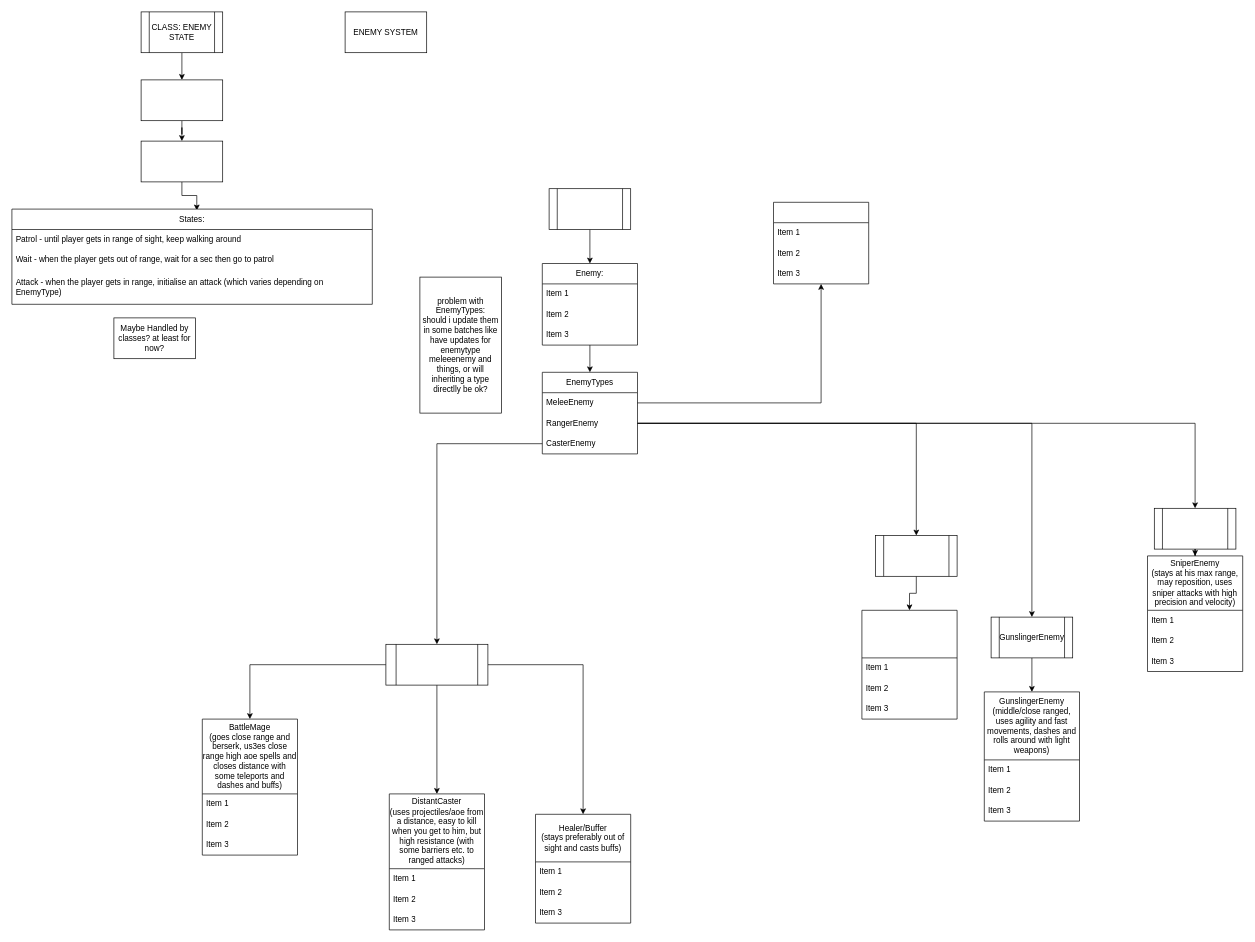
Image size: 1255x942. Some labels were removed from this diagram. The shapes that lost their labels are listed below. From the top down, each one's box as (x1, y1, x2, y2) in pixels, then its label:
(140, 79, 223, 121): Main Controller: EnemyStateMachine
(140, 140, 223, 182): EnemyStateNodes
(548, 188, 631, 230): CLASS: ENEMY
(773, 202, 869, 284): List
(1154, 508, 1236, 549): SniperEnemy
(875, 535, 957, 576): ArcherEnemy
(861, 610, 957, 719): ArcherEnemy (middle ranged, uses stealth combat and agility)
